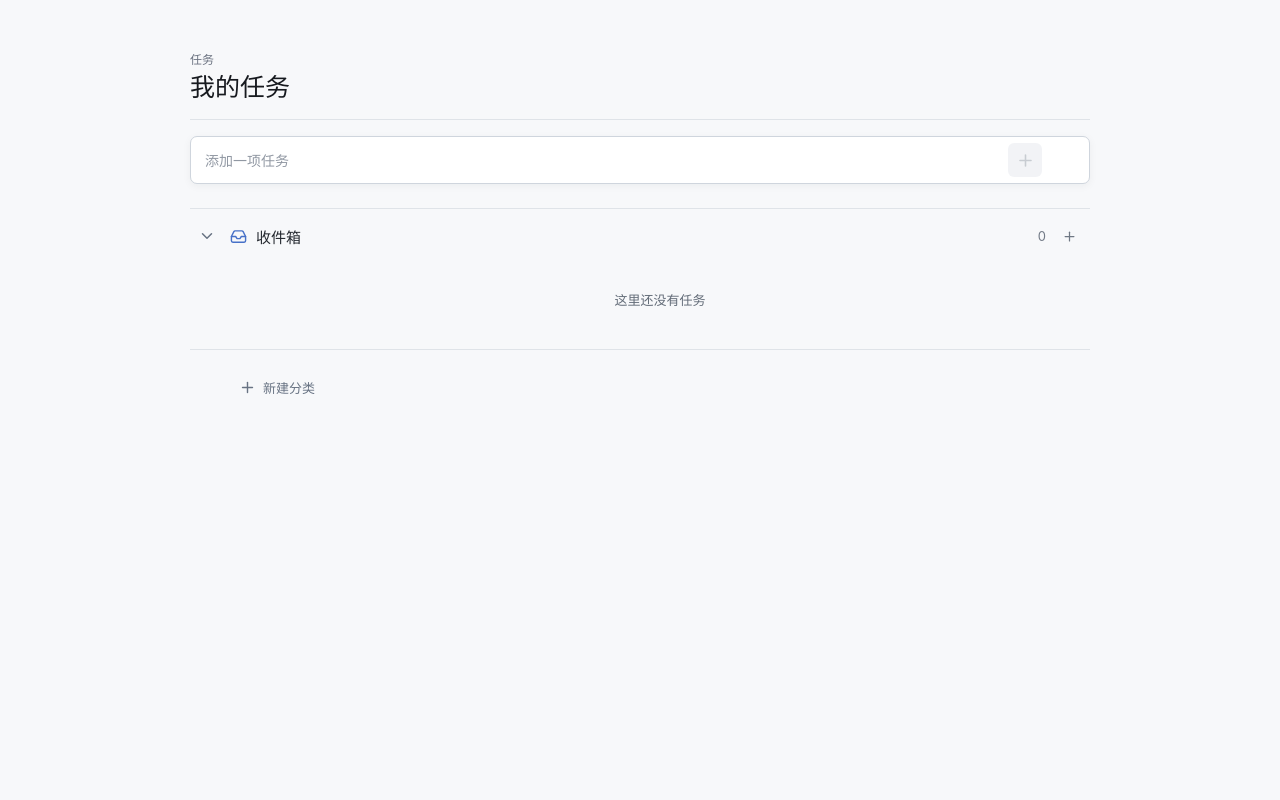
Scenario: WorkspaceProvider › retains working tasks and input ability after a create transaction fails
The width and height of the screenshot is (1280, 800).
Type "A" into the field named "快速添加任务" at (606, 160), box [205,142,1008,178]
Then press Enter
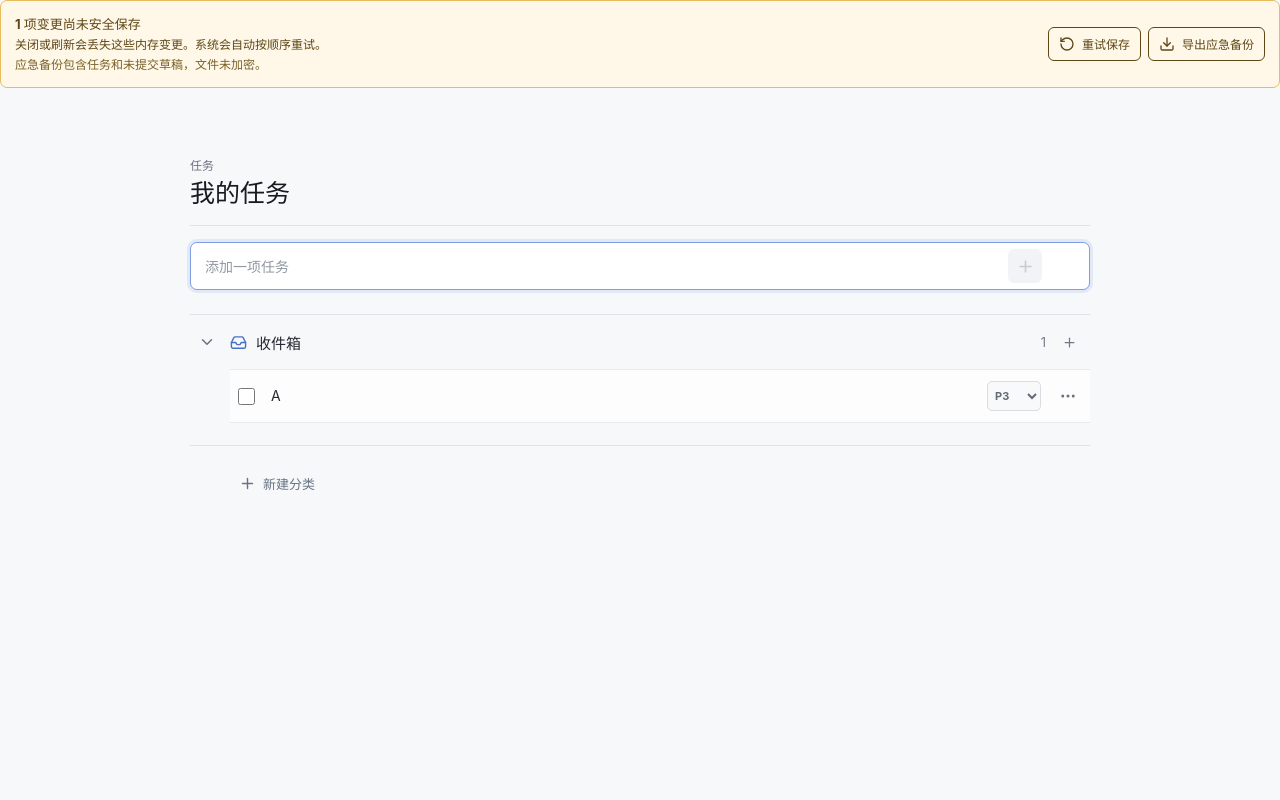
Result: the text "A" is shown at [271,387,281,404]
Result: the text "1 项变更尚未安全保存" is shown at [15,16,141,32]
Type "B" into the field named "快速添加任务" at (606, 266), box [205,248,1008,284]
Then press Enter
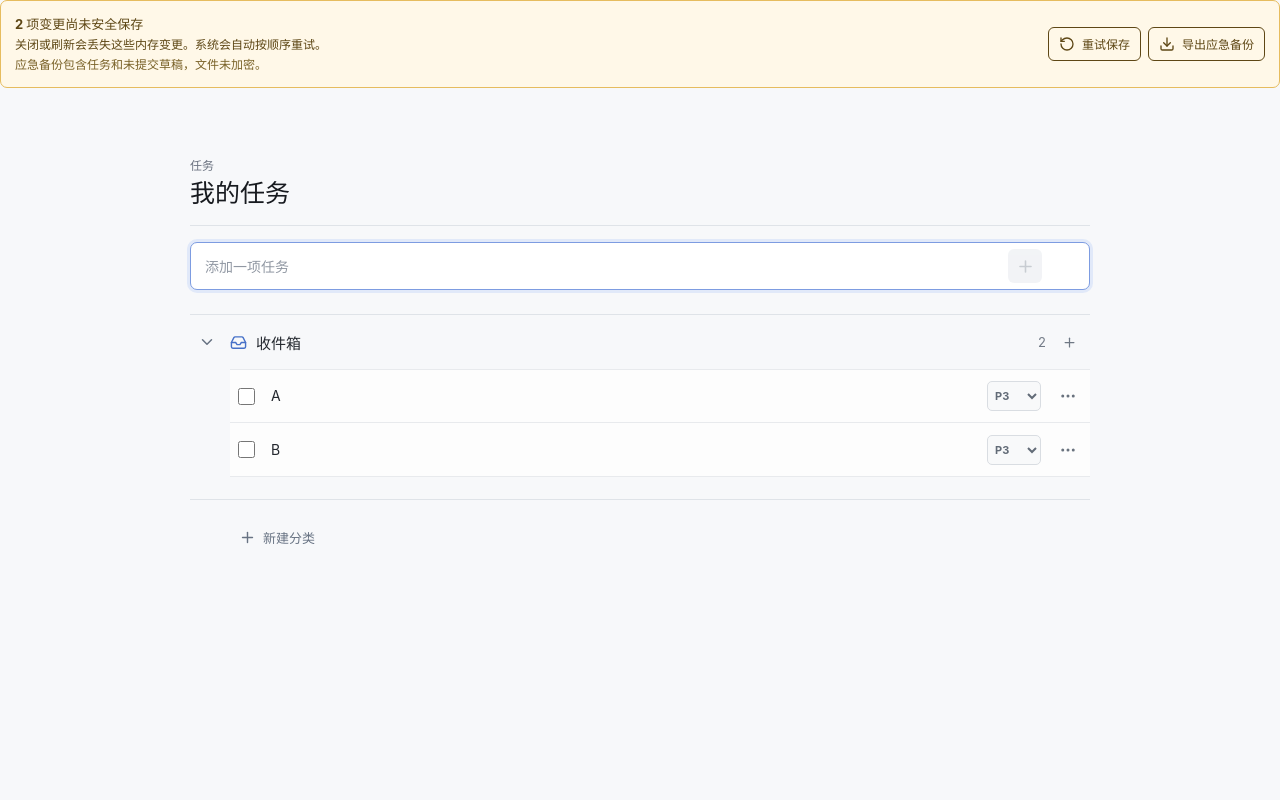
Result: the text "B" is shown at [271,441,280,458]
Click the button "重试保存" at (1094, 44), box [1048,27,1141,61]
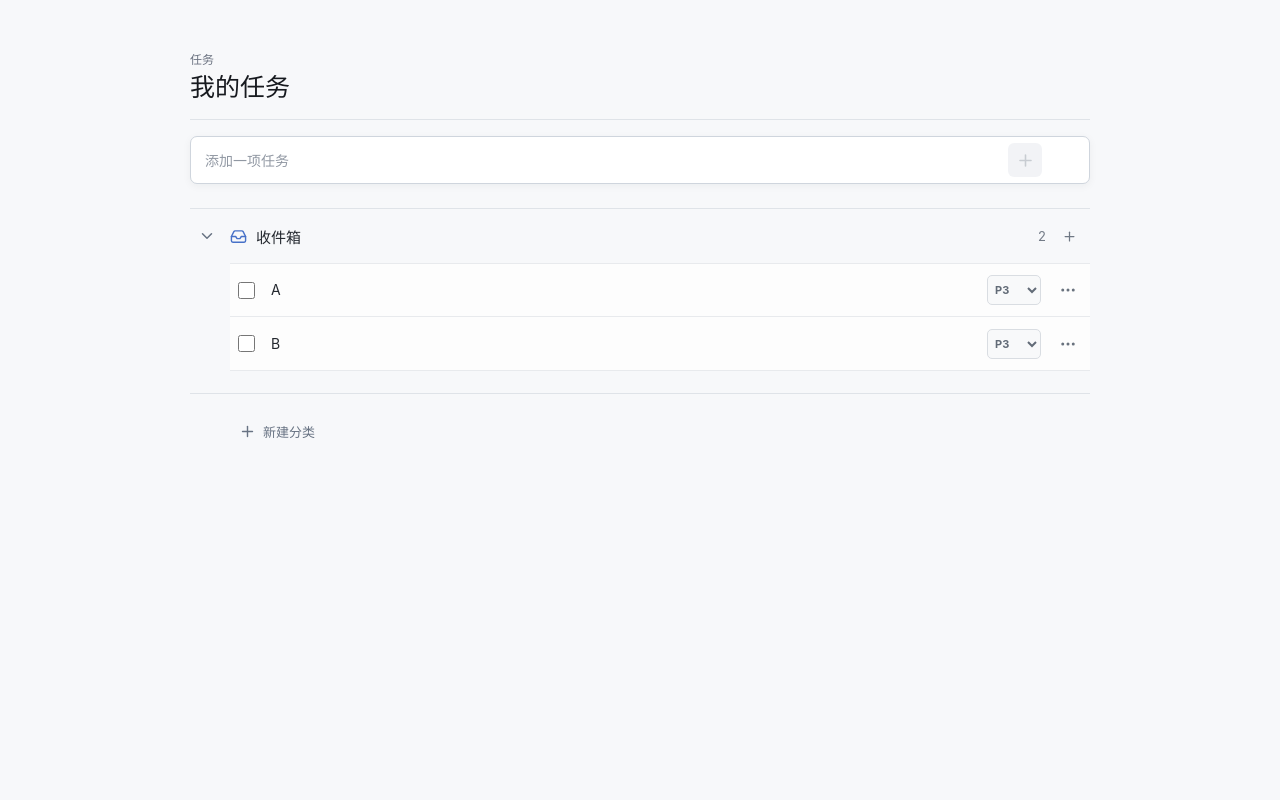
Result: the text "尚未安全保存" is gone
